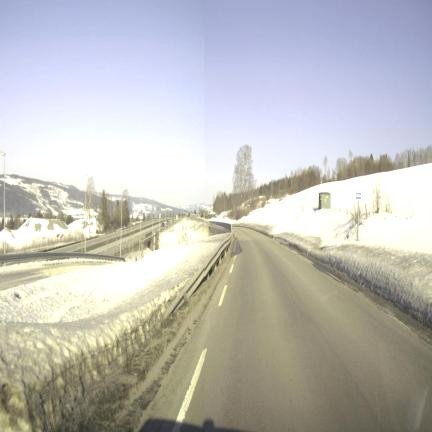Road: (148, 229, 431, 431)
